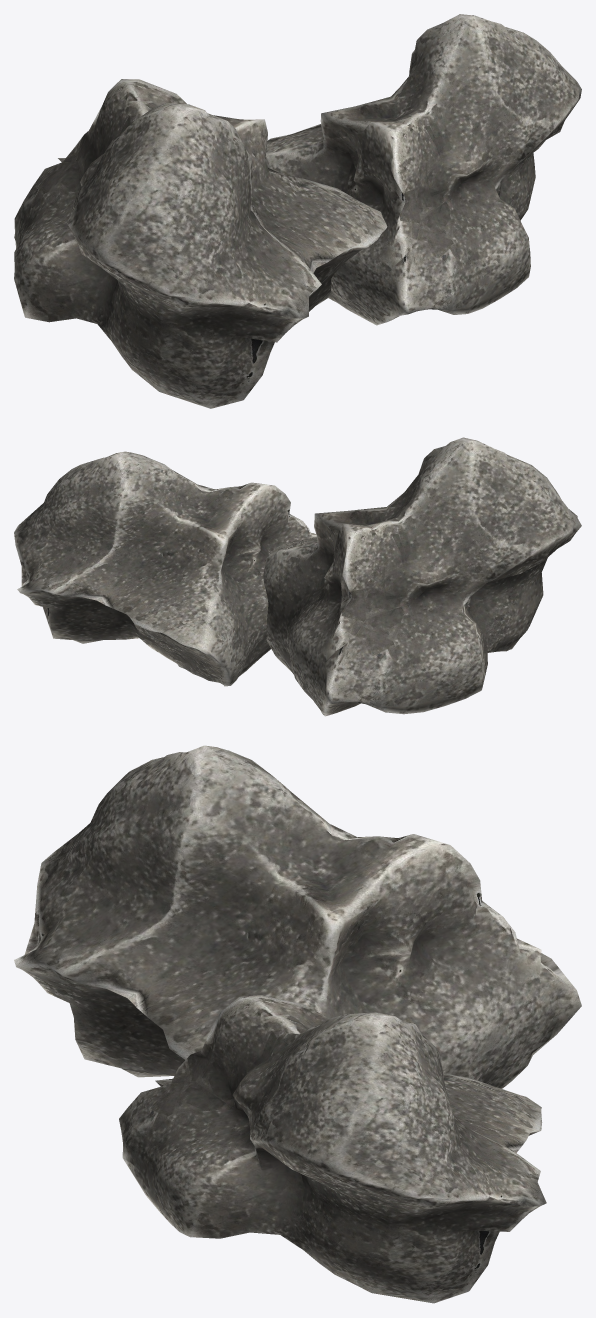
File: corealm_sunder_ledge.glb
The picture shows the model from 3 angles, top to bottom: view 1: azimuth 30°, elevation 25°; view 2: azimuth 150°, elevation 25°; view 3: azimuth 270°, elevation 25°; orthographic projection. The views are drawn at different scales.
Visible parts, largest first — view 1: corealm_sunder_ledge; view 2: corealm_sunder_ledge; view 3: corealm_sunder_ledge.
Part boxes in pixels (x1,y1,x2,y2): corealm_sunder_ledge: (14,14,581,408); corealm_sunder_ledge: (14,437,581,716); corealm_sunder_ledge: (14,745,581,1303).
Bounding box in the file's own units: 9.32 × 4.45 × 6.74.
Materials: 1 (1 with a texture image).
